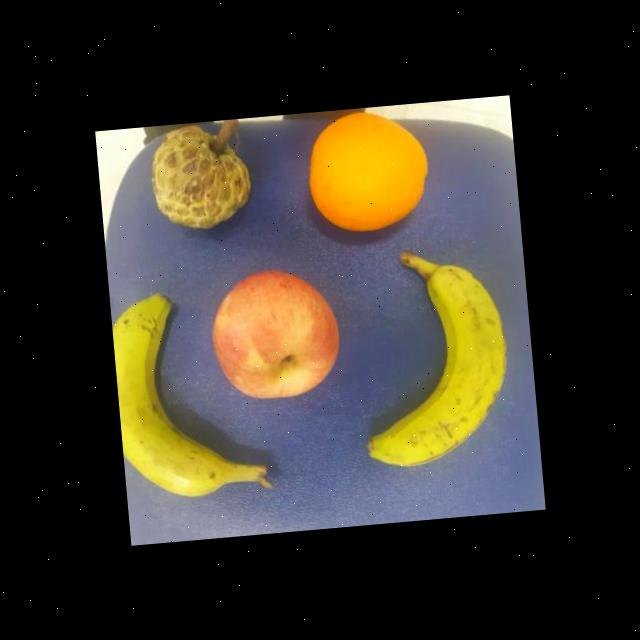Sakya fruit: (138, 121, 255, 240)
apple: (205, 263, 350, 407)
banana: (346, 257, 522, 473), (110, 291, 230, 512)
orange: (300, 107, 434, 240)
